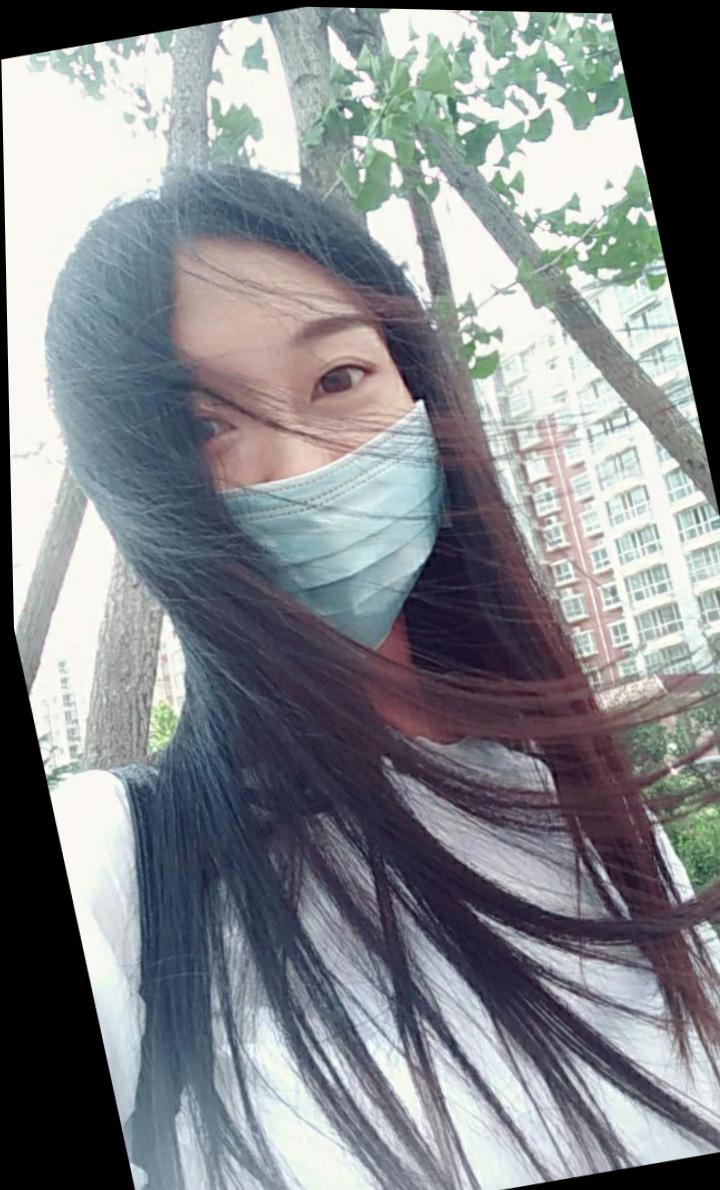WRONG: (106, 278, 486, 691)
